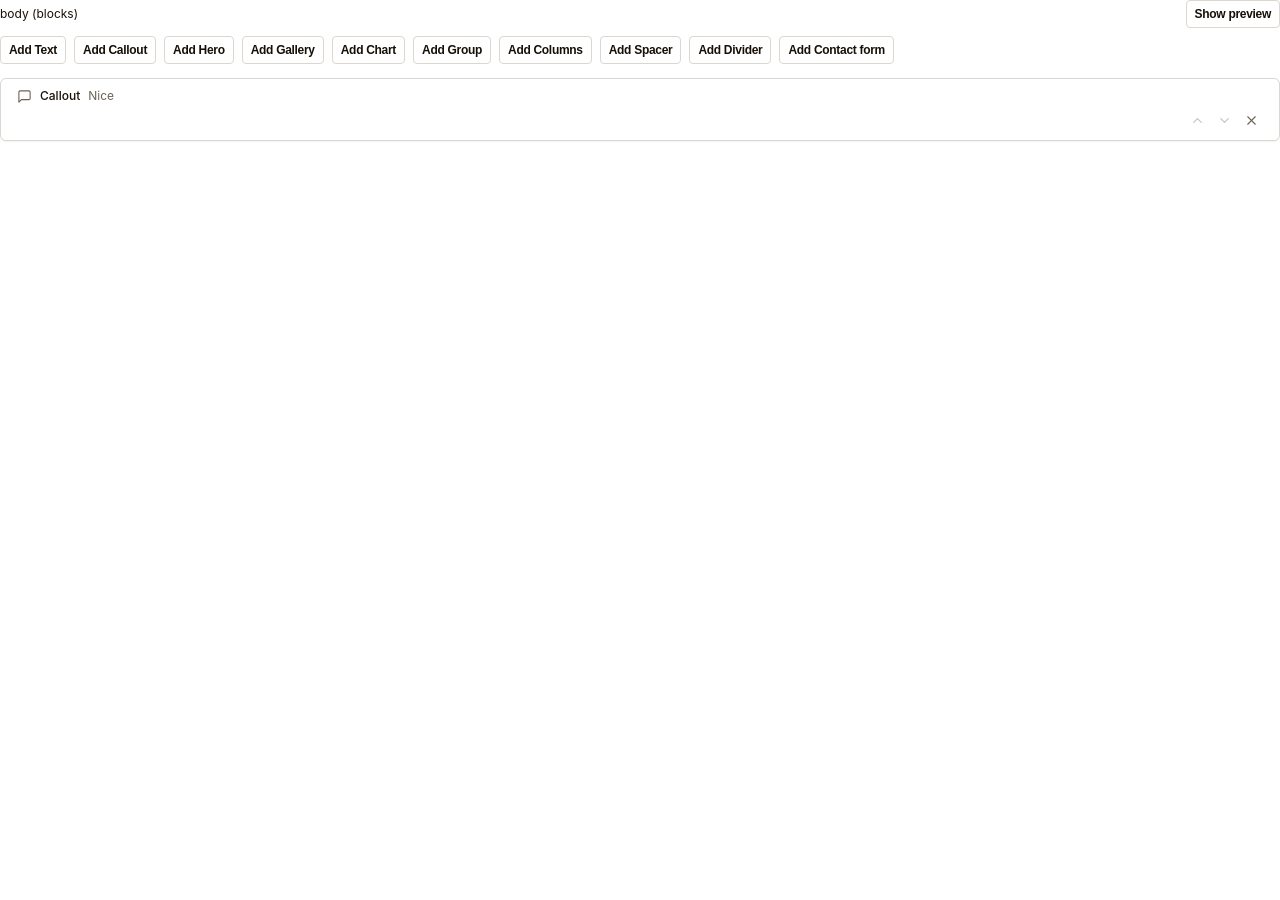
Test case: BlocksFieldEditor › opens the inspector as a modal and disables card DnD on mobile
Click the button "Callout Nice": (60, 96) [17,87,1263,105]
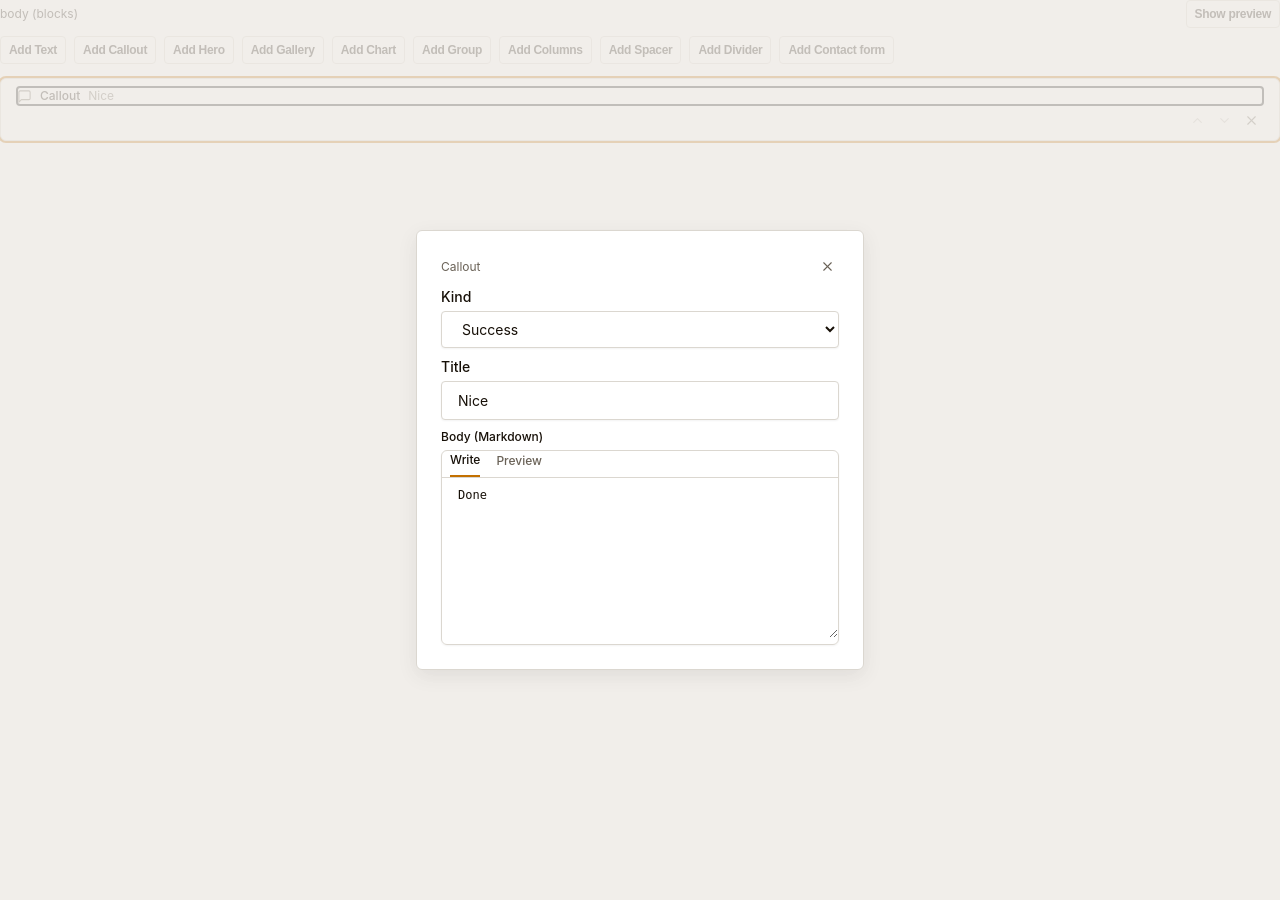
Now the dialog is shown, box [416,230,864,670]
